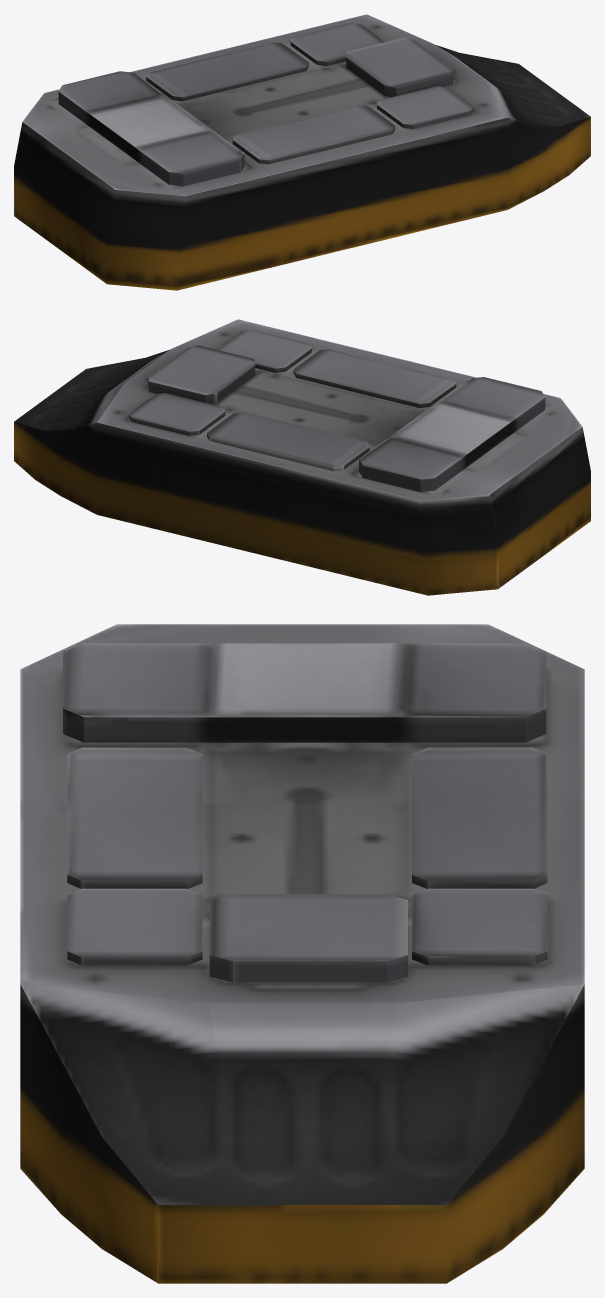
The model's file is r_foot.dae.
3 views of the same model, one above another, from view 1: azimuth 30°, elevation 25°; view 2: azimuth 150°, elevation 25°; view 3: azimuth 270°, elevation 25° (orthographic). The views are drawn at different scales.
Visible parts, largest first — view 1: drc_r_foot; view 2: drc_r_foot; view 3: drc_r_foot.
Boxes of the visible parts, left/top/right/bottom form: drc_r_foot: left=14, top=14, right=590, bottom=290; drc_r_foot: left=14, top=319, right=590, bottom=595; drc_r_foot: left=20, top=624, right=584, bottom=1283.
Bounding box in the file's own units: 0.2633 × 0.1301 × 0.0535.
